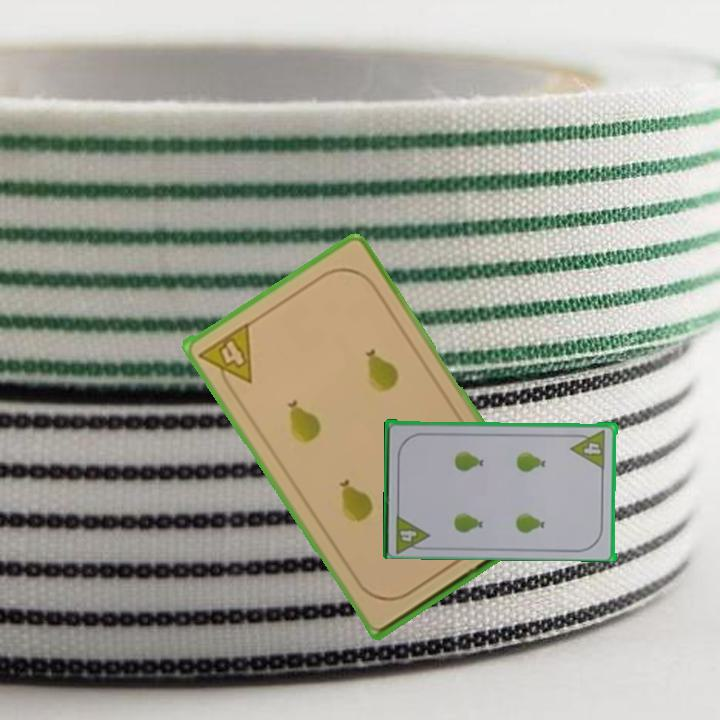4p: (195, 319, 256, 396), (569, 438, 605, 470), (397, 526, 420, 544)
